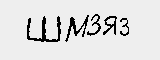З: (84, 12, 102, 37), (119, 16, 131, 38)
М: (63, 12, 88, 42)
Ш: (24, 15, 60, 44)
Я: (100, 15, 120, 36)
